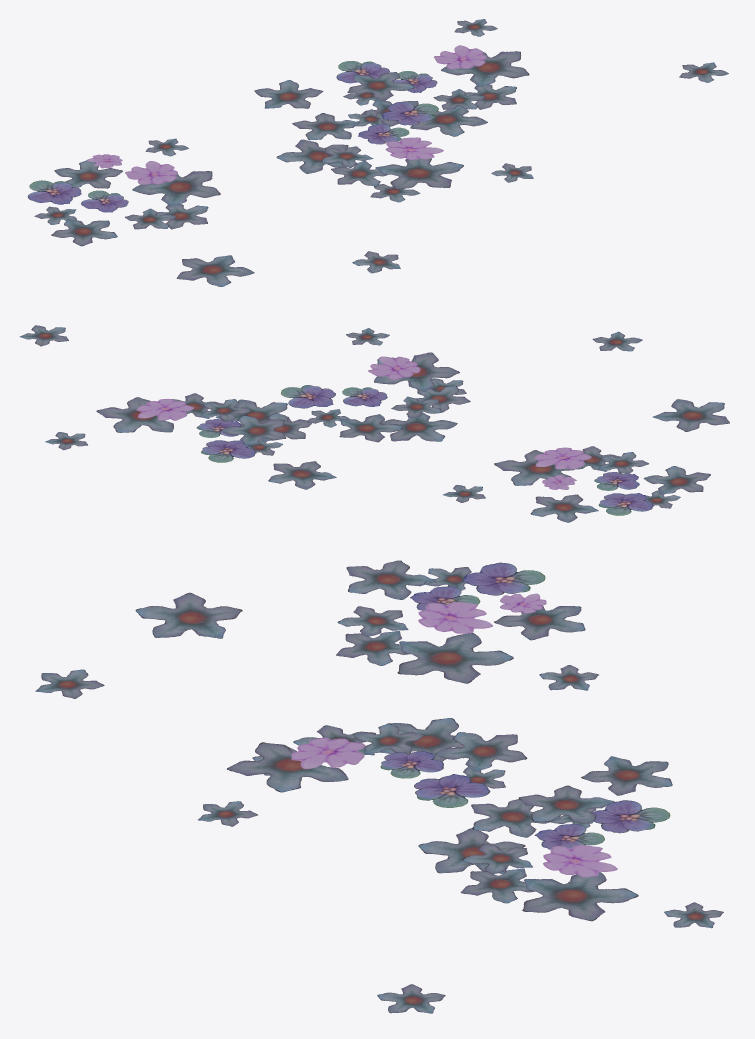
Rendered from 110101_flower_029.FBX.
3 renders of one model, top to bottom at view 1: azimuth 30°, elevation 25°; view 2: azimuth 150°, elevation 25°; view 3: azimuth 270°, elevation 25°, orthographic. The views are drawn at different scales.
Parts seen in each view (by area): view 1: 110101_flower_029, 110101_flower_031, 110101_flower_030, 110101_flower_033, 110101_flower_034, 110101_flower_035; view 2: 110101_flower_031, 110101_flower_029, 110101_flower_030, 110101_flower_033, 110101_flower_035, 110101_flower_034; view 3: 110101_flower_029, 110101_flower_030, 110101_flower_031, 110101_flower_033, 110101_flower_035, 110101_flower_034.
Part boxes in pixels (x1=…): 110101_flower_029: x1=27, y1=138, x2=420, y2=286; 110101_flower_031: x1=276, y1=72, x2=533, y2=273; 110101_flower_030: x1=254, y1=19, x2=728, y2=136; 110101_flower_033: x1=86, y1=154, x2=177, y2=184; 110101_flower_034: x1=385, y1=137, x2=443, y2=159; 110101_flower_035: x1=434, y1=45, x2=486, y2=69; 110101_flower_031: x1=220, y1=328, x2=642, y2=445; 110101_flower_029: x1=417, y1=378, x2=729, y2=522; 110101_flower_030: x1=19, y1=325, x2=336, y2=489; 110101_flower_033: x1=534, y1=447, x2=591, y2=489; 110101_flower_035: x1=136, y1=398, x2=193, y2=420; 110101_flower_034: x1=368, y1=356, x2=420, y2=379; 110101_flower_029: x1=135, y1=560, x2=598, y2=775; 110101_flower_030: x1=377, y1=756, x2=723, y2=1013; 110101_flower_031: x1=35, y1=669, x2=614, y2=826; 110101_flower_033: x1=418, y1=593, x2=546, y2=633; 110101_flower_035: x1=543, y1=845, x2=617, y2=876; 110101_flower_034: x1=291, y1=737, x2=365, y2=769.
Size of the model in its own units: 2.12 by 0.0927 by 1.4.
